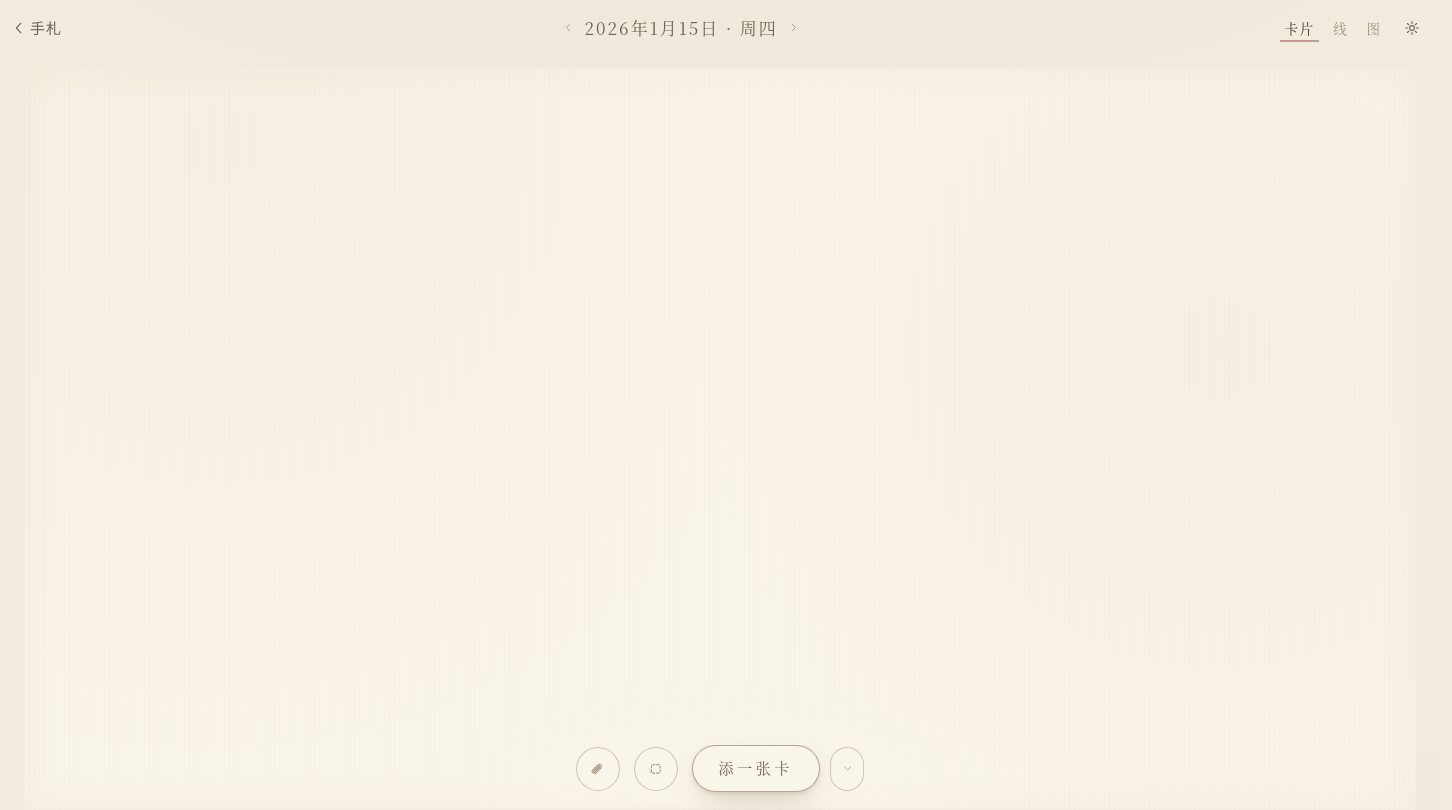
图模式（时间轴纸聚） › 空账本耳语：笔没落，纸串自然是空的
The width and height of the screenshot is (1452, 810).
Click the button "图": click(1374, 28) [1359,14,1390,42]
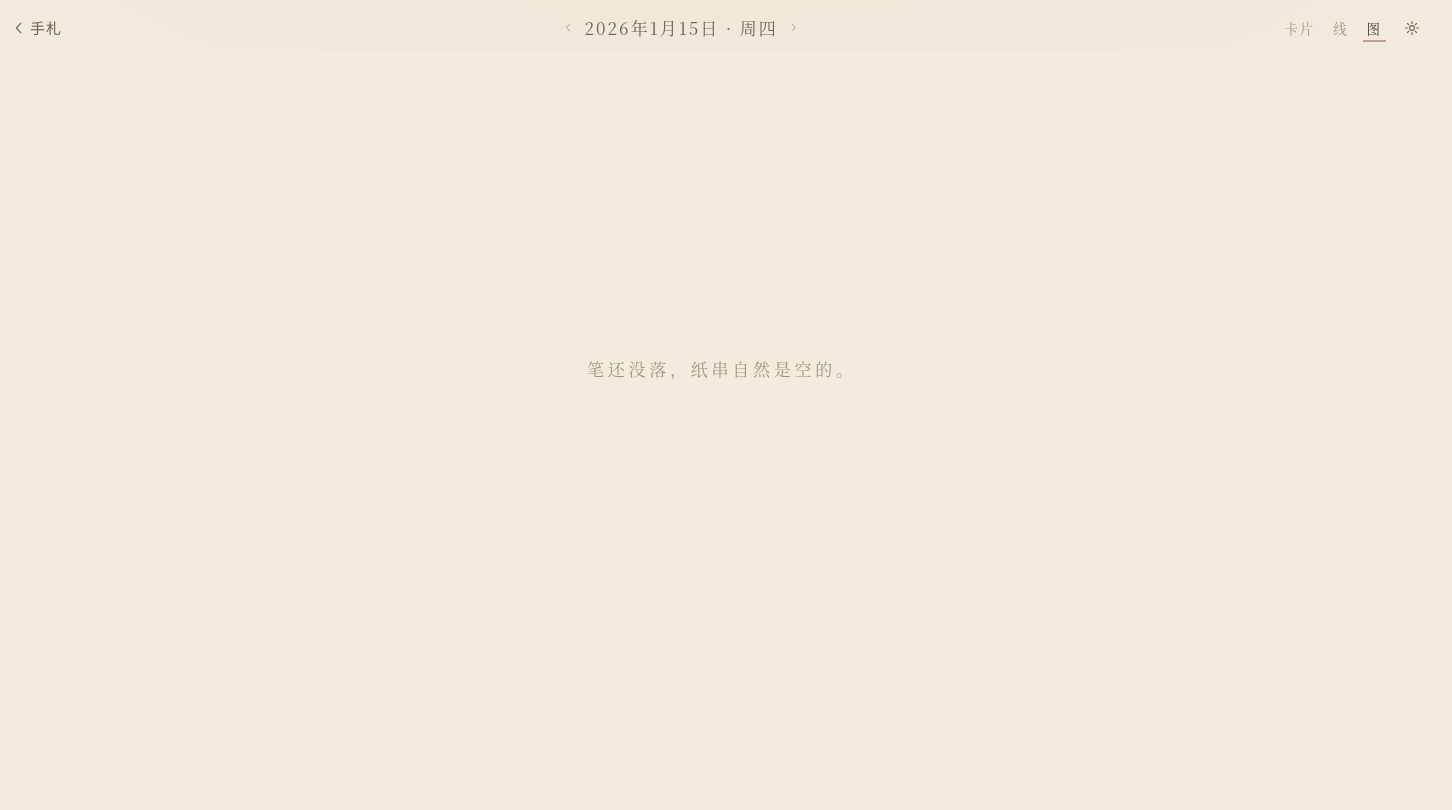
Expected: the text "笔还没落，纸串自然是空的。" is shown, [587,356,857,381]
